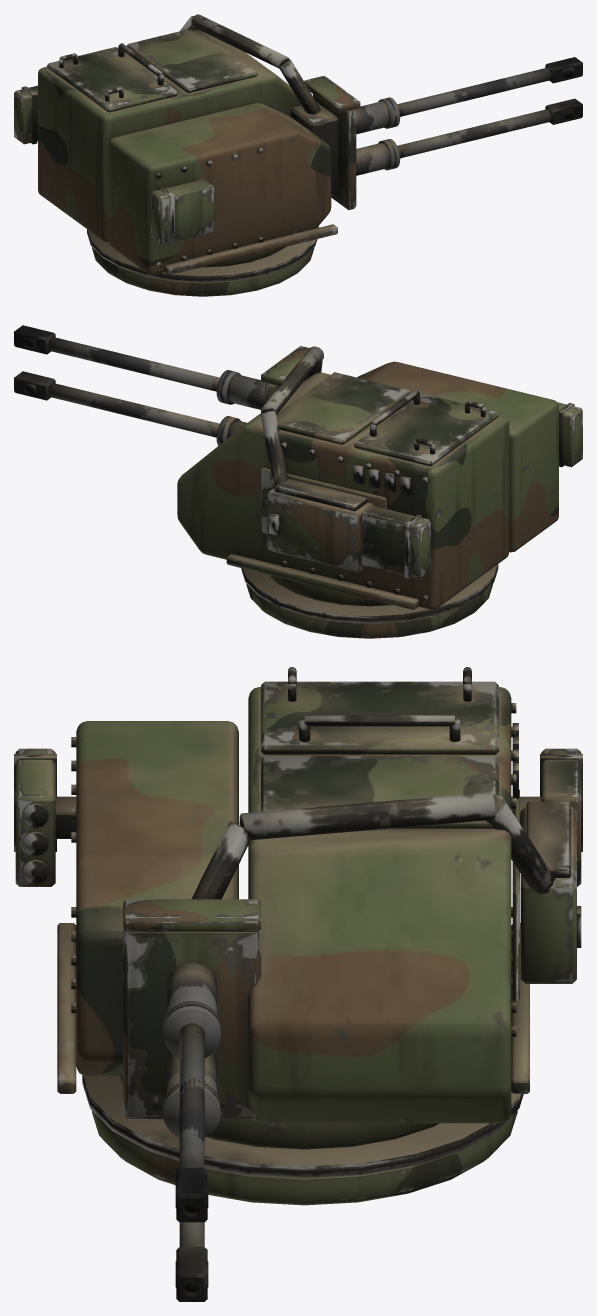
File: turret_grach_t2_forest.glb
The picture shows the model from 3 angles, top to bottom: view 1: azimuth 30°, elevation 25°; view 2: azimuth 150°, elevation 25°; view 3: azimuth 270°, elevation 25°; orthographic projection. The views are drawn at different scales.
Visible parts, largest first — view 1: turret_light_t2, guns, pods; view 2: turret_light_t2, guns, pods; view 3: turret_light_t2, guns, pods.
Part boxes in pixels (<box>): turret_light_t2: <box>38,14,337,296</box>; guns: <box>290,57,582,210</box>; pods: <box>14,85,214,244</box>; turret_light_t2: <box>177,346,558,638</box>; guns: <box>14,325,323,445</box>; pods: <box>360,402,582,578</box>; turret_light_t2: <box>57,667,581,1205</box>; guns: <box>123,899,260,1301</box>; pods: <box>14,748,582,886</box>.
Size of the model in its own units: 1.64 by 0.6416 by 0.9088.
3 materials, 3 textured.
